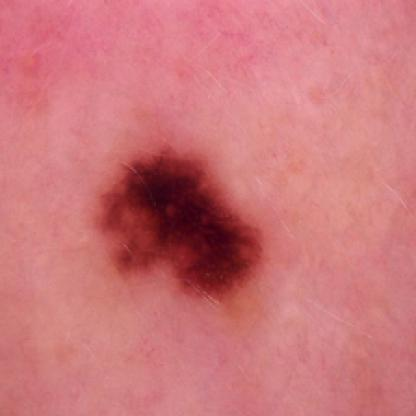benign: (98, 132, 275, 306)
